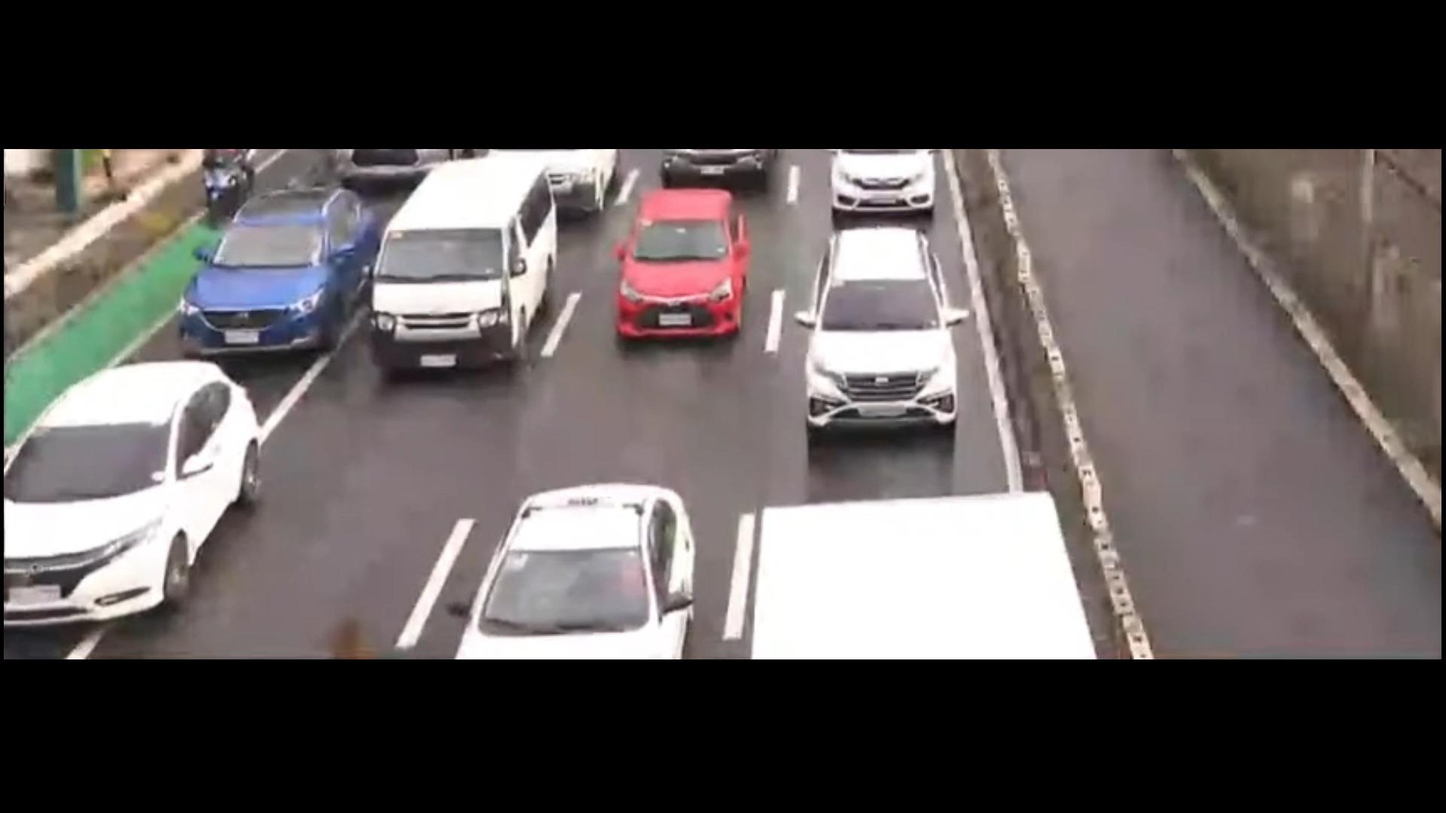Motorcycle: (207, 142, 253, 220)
SUV: (0, 356, 279, 640), (774, 204, 974, 497), (174, 179, 381, 366)
Sedan: (447, 478, 712, 654), (597, 181, 784, 352)
Truck: (742, 473, 1096, 654)
Van: (356, 164, 575, 401)
